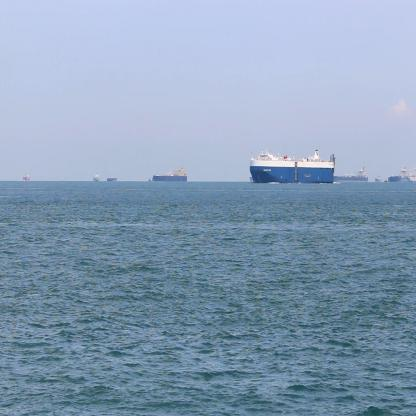Container Ship: (249, 152, 336, 184), (152, 164, 189, 183), (333, 167, 369, 182), (388, 164, 410, 188), (406, 168, 416, 185), (91, 171, 102, 185), (247, 174, 259, 186), (21, 170, 31, 184), (373, 172, 381, 186), (106, 176, 118, 184), (382, 175, 388, 187), (146, 177, 154, 184)
